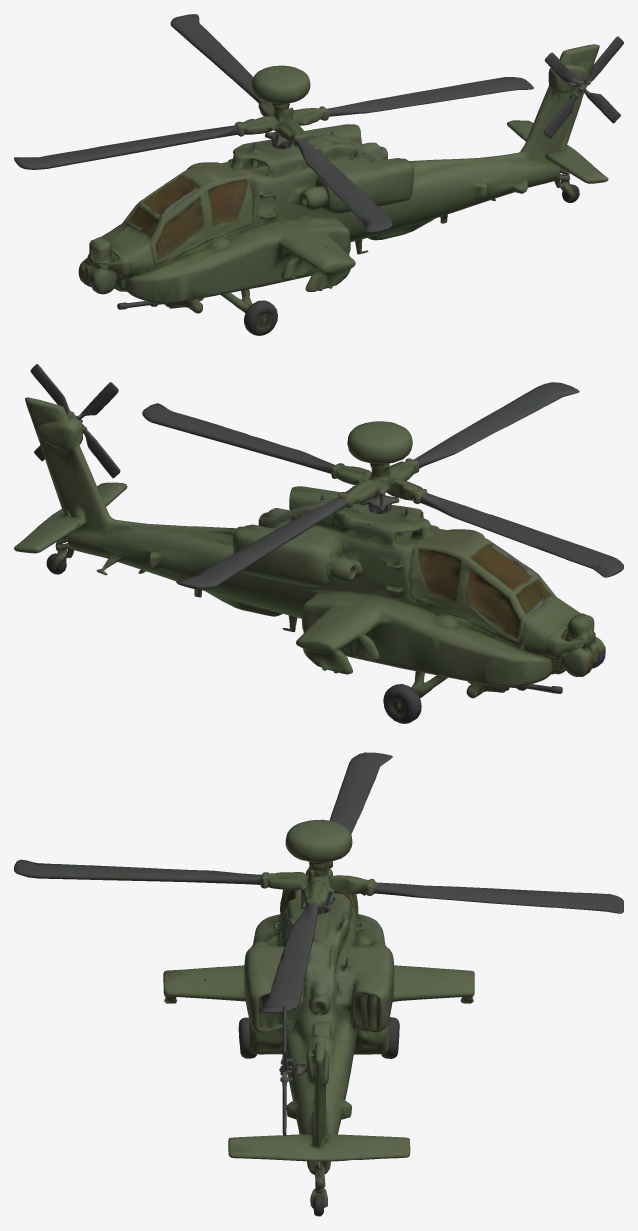
The model's file is a3D-heli-apache.glb.
3 views of the same model, one above another, from view 1: azimuth 30°, elevation 25°; view 2: azimuth 150°, elevation 25°; view 3: azimuth 270°, elevation 25° (orthographic). The views are drawn at different scales.
Visible parts, largest first — view 1: geometry_0; view 2: geometry_0; view 3: geometry_0.
Part boxes in pixels (x1=…): geometry_0: x1=14, y1=14, x2=623, y2=335; geometry_0: x1=14, y1=364, x2=623, y2=723; geometry_0: x1=14, y1=752, x2=623, y2=1216.
Size of the model in its own units: 1.9 by 0.725 by 1.56.
Materials: 1 (1 with a texture image).
